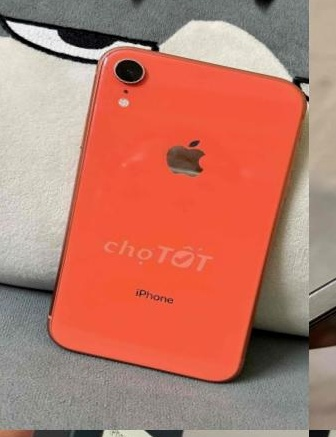scratch: (218, 339, 257, 386), (127, 430, 207, 437)
